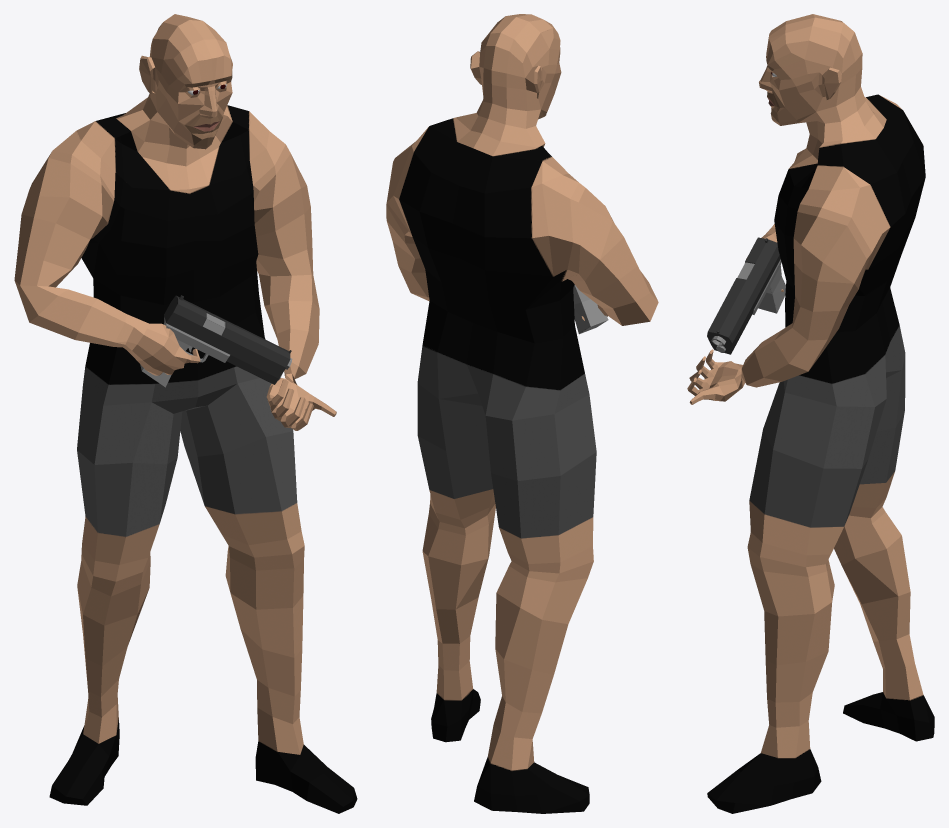
File: PlayerIdle(1).obj
3 views of the same model, side by side, from view 1: azimuth 30°, elevation 25°; view 2: azimuth 150°, elevation 25°; view 3: azimuth 270°, elevation 25° (orthographic). The views are drawn at different scales.
Visible parts, largest first — view 1: Plane002, Box003; view 2: Plane002, Box003; view 3: Plane002, Box003.
Part boxes in pixels (<box>): Plane002: <box>14,14,357,813</box>; Box003: <box>140,295,292,387</box>; Plane002: <box>386,14,658,813</box>; Box003: <box>573,284,608,334</box>; Plane002: <box>687,14,934,813</box>; Box003: <box>707,237,785,354</box>.
Size of the model in its own units: 679 by 1806 by 548.
